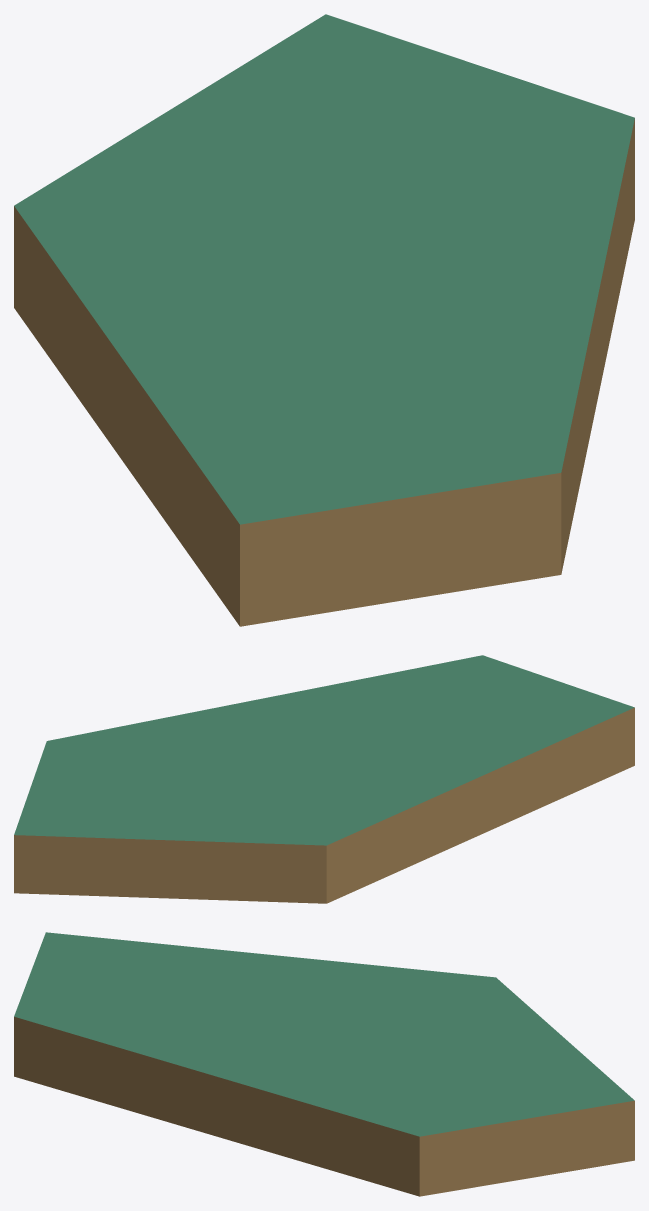
The model's file is Rock_Small_Mesa_Eroded_Moss_Grass_Shard_02.FBX.
3 views of the same model, one above another, from view 1: azimuth 30°, elevation 25°; view 2: azimuth 150°, elevation 25°; view 3: azimuth 270°, elevation 25° (orthographic). The views are drawn at different scales.
Parts seen in each view (by area): view 1: Rock_Small_Mesa_Eroded_Moss_Grass_Shard_02; view 2: Rock_Small_Mesa_Eroded_Moss_Grass_Shard_02; view 3: Rock_Small_Mesa_Eroded_Moss_Grass_Shard_02.
Part boxes in pixels (bbox=[...]): Rock_Small_Mesa_Eroded_Moss_Grass_Shard_02: bbox=[14, 14, 634, 626]; Rock_Small_Mesa_Eroded_Moss_Grass_Shard_02: bbox=[14, 655, 634, 903]; Rock_Small_Mesa_Eroded_Moss_Grass_Shard_02: bbox=[14, 932, 634, 1196].
Bounding box in the file's own units: 1575 × 215 × 2023.
